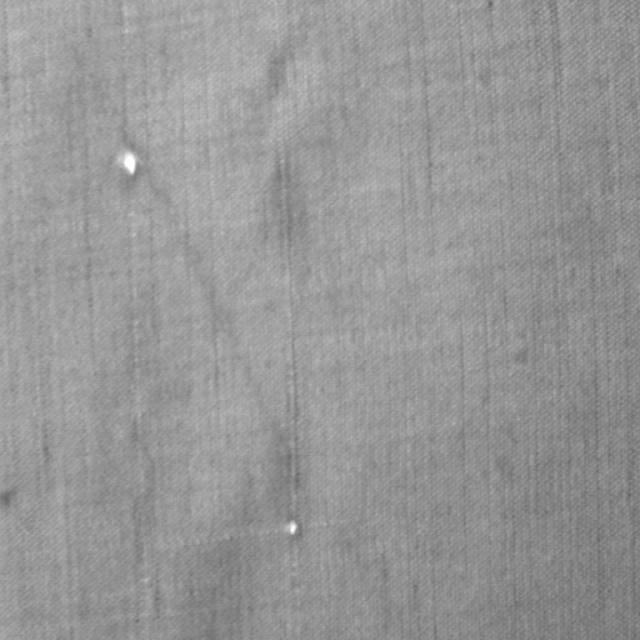hole: (110, 141, 147, 181), (283, 516, 301, 539)
